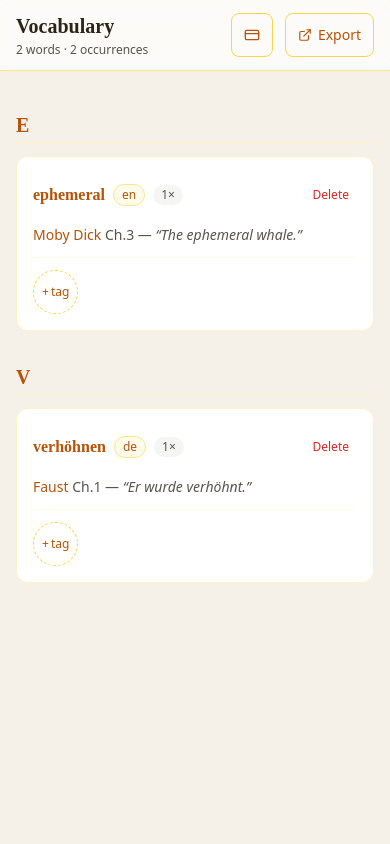
Test: the dialog closes and the status line reports the download
The image size is (390, 844).
Expected: the button "ephemeral" is shown, [33,173,105,217]
Click the button with test id "export-all-btn".
click(329, 35)  # box [285,13,374,57]
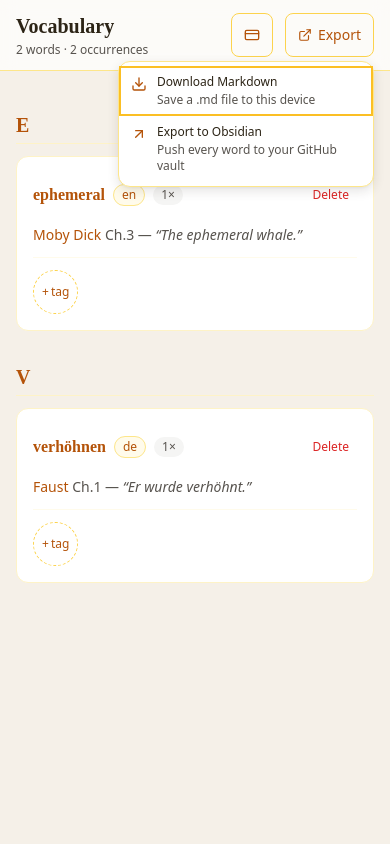
Click the menu item "Download Markdown Save a .md file to this device".
click(246, 91)  # box [119,66,373,116]
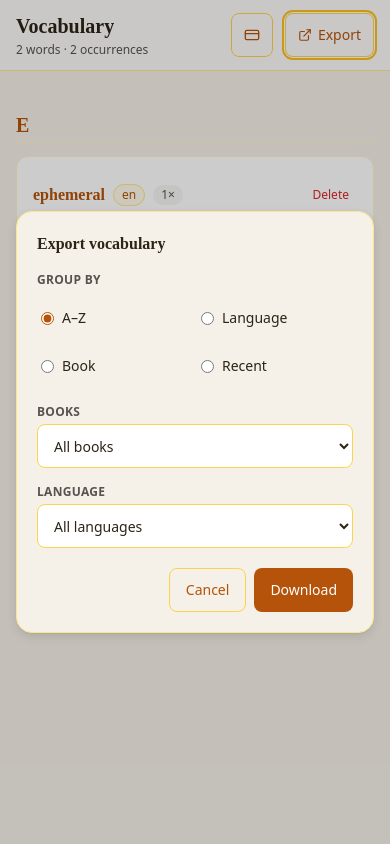
Click the button "Download".
click(304, 590)  # box [254,568,353,612]
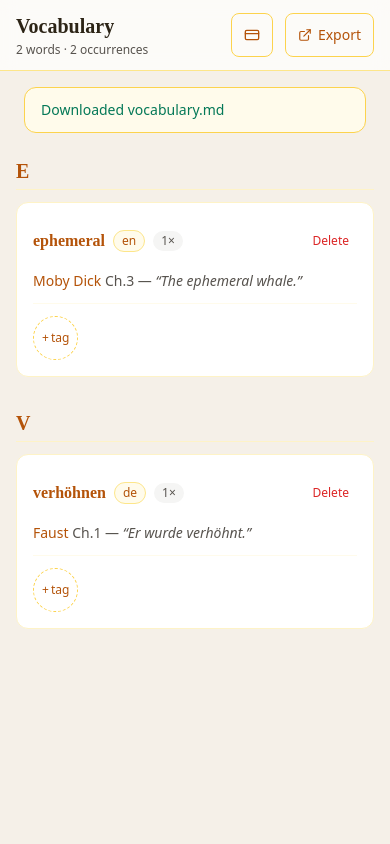
Expected: the dialog is gone
Expected: the text "Downloaded vocabulary.md" is shown, [41,100,224,119]
